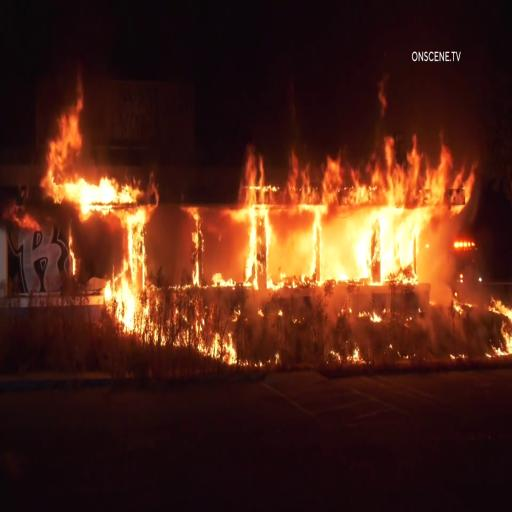fire: (288, 139, 467, 287), (236, 159, 275, 281), (52, 166, 150, 214)
